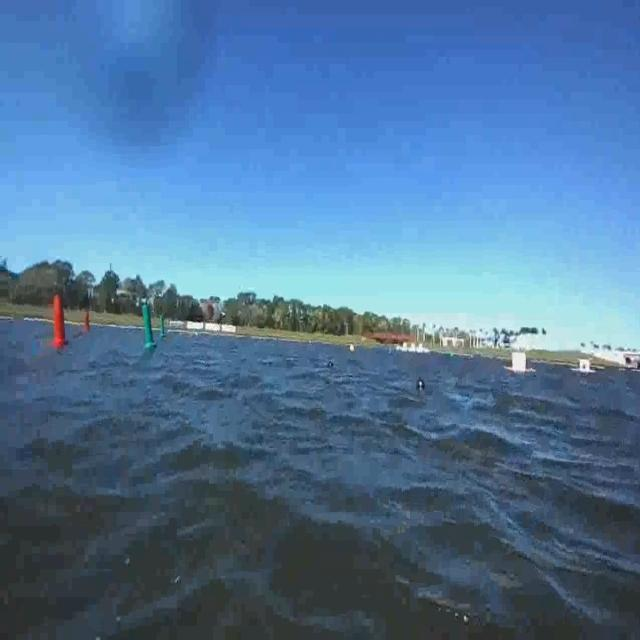black-buoy: (418, 378, 424, 390)
green-column-buoy: (142, 304, 157, 349), (161, 313, 168, 338)
red-column-buoy: (54, 297, 69, 348), (83, 312, 90, 335)
